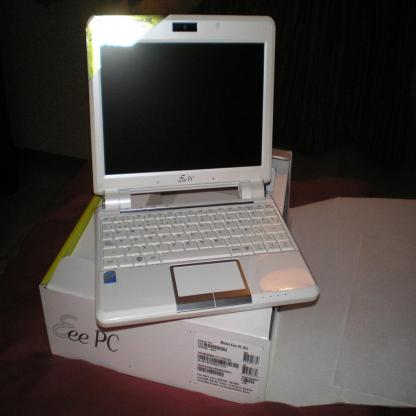board: (84, 12, 319, 330)
